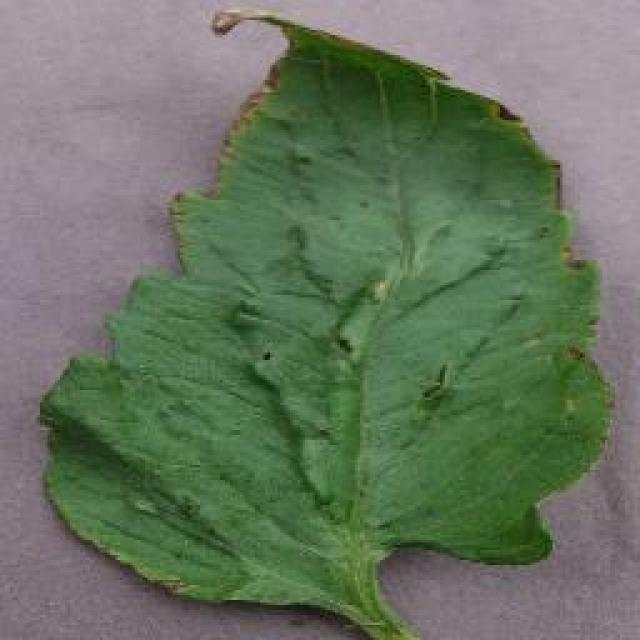Tomato bacterial spot leaf: (24, 3, 620, 614)
